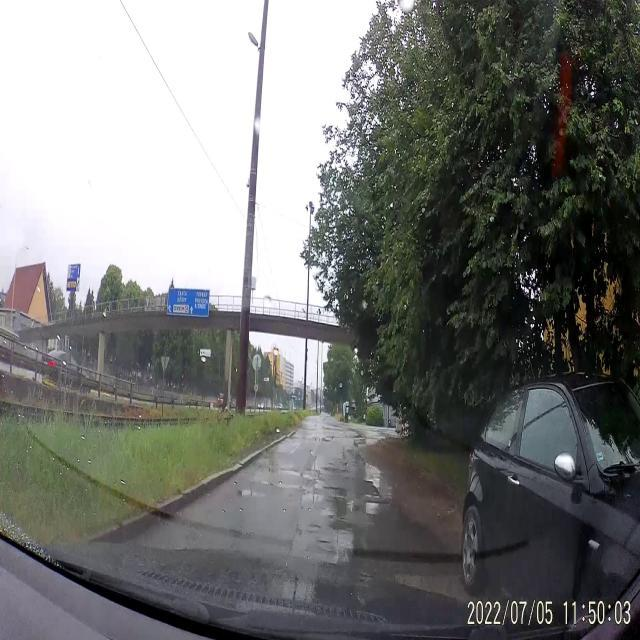Pothole: (321, 494, 362, 519), (281, 461, 322, 484), (237, 481, 263, 502)
